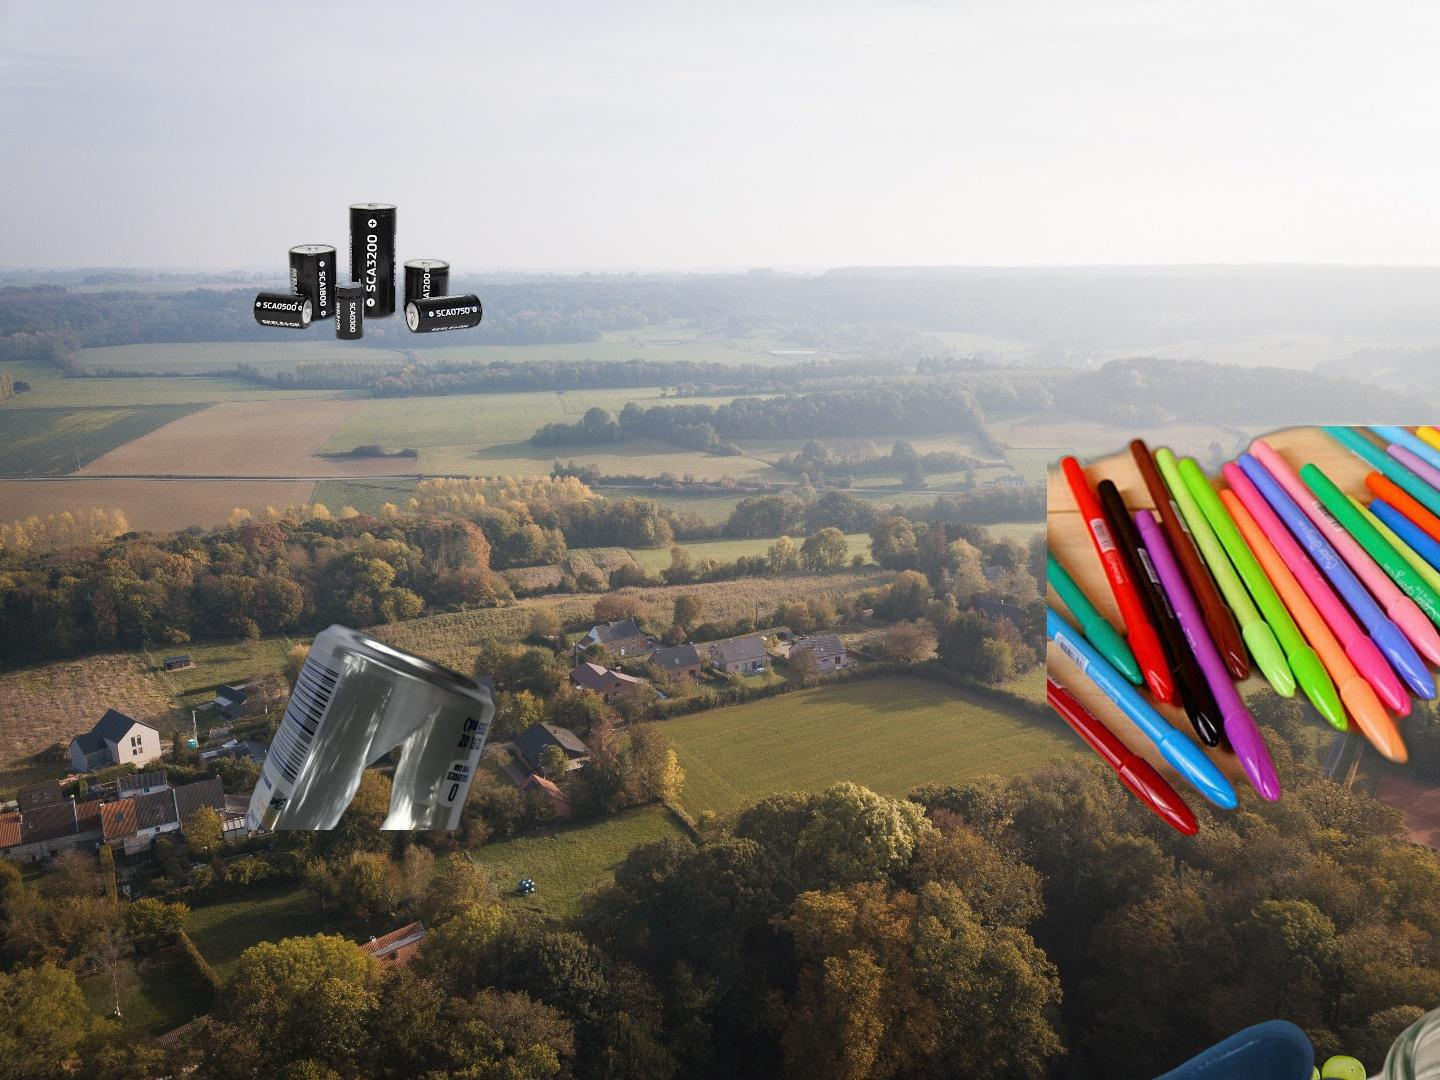battery: (251, 200, 485, 343)
biological: (1234, 1016, 1440, 1080)
glass: (1277, 996, 1440, 1080)
metal-cans: (239, 621, 500, 830), (212, 1052, 725, 1080)
penholder: (1047, 425, 1440, 839)
shoes: (1052, 1015, 1378, 1080)
